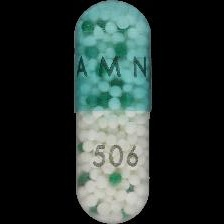65162-506: (0, 0, 224, 224)
